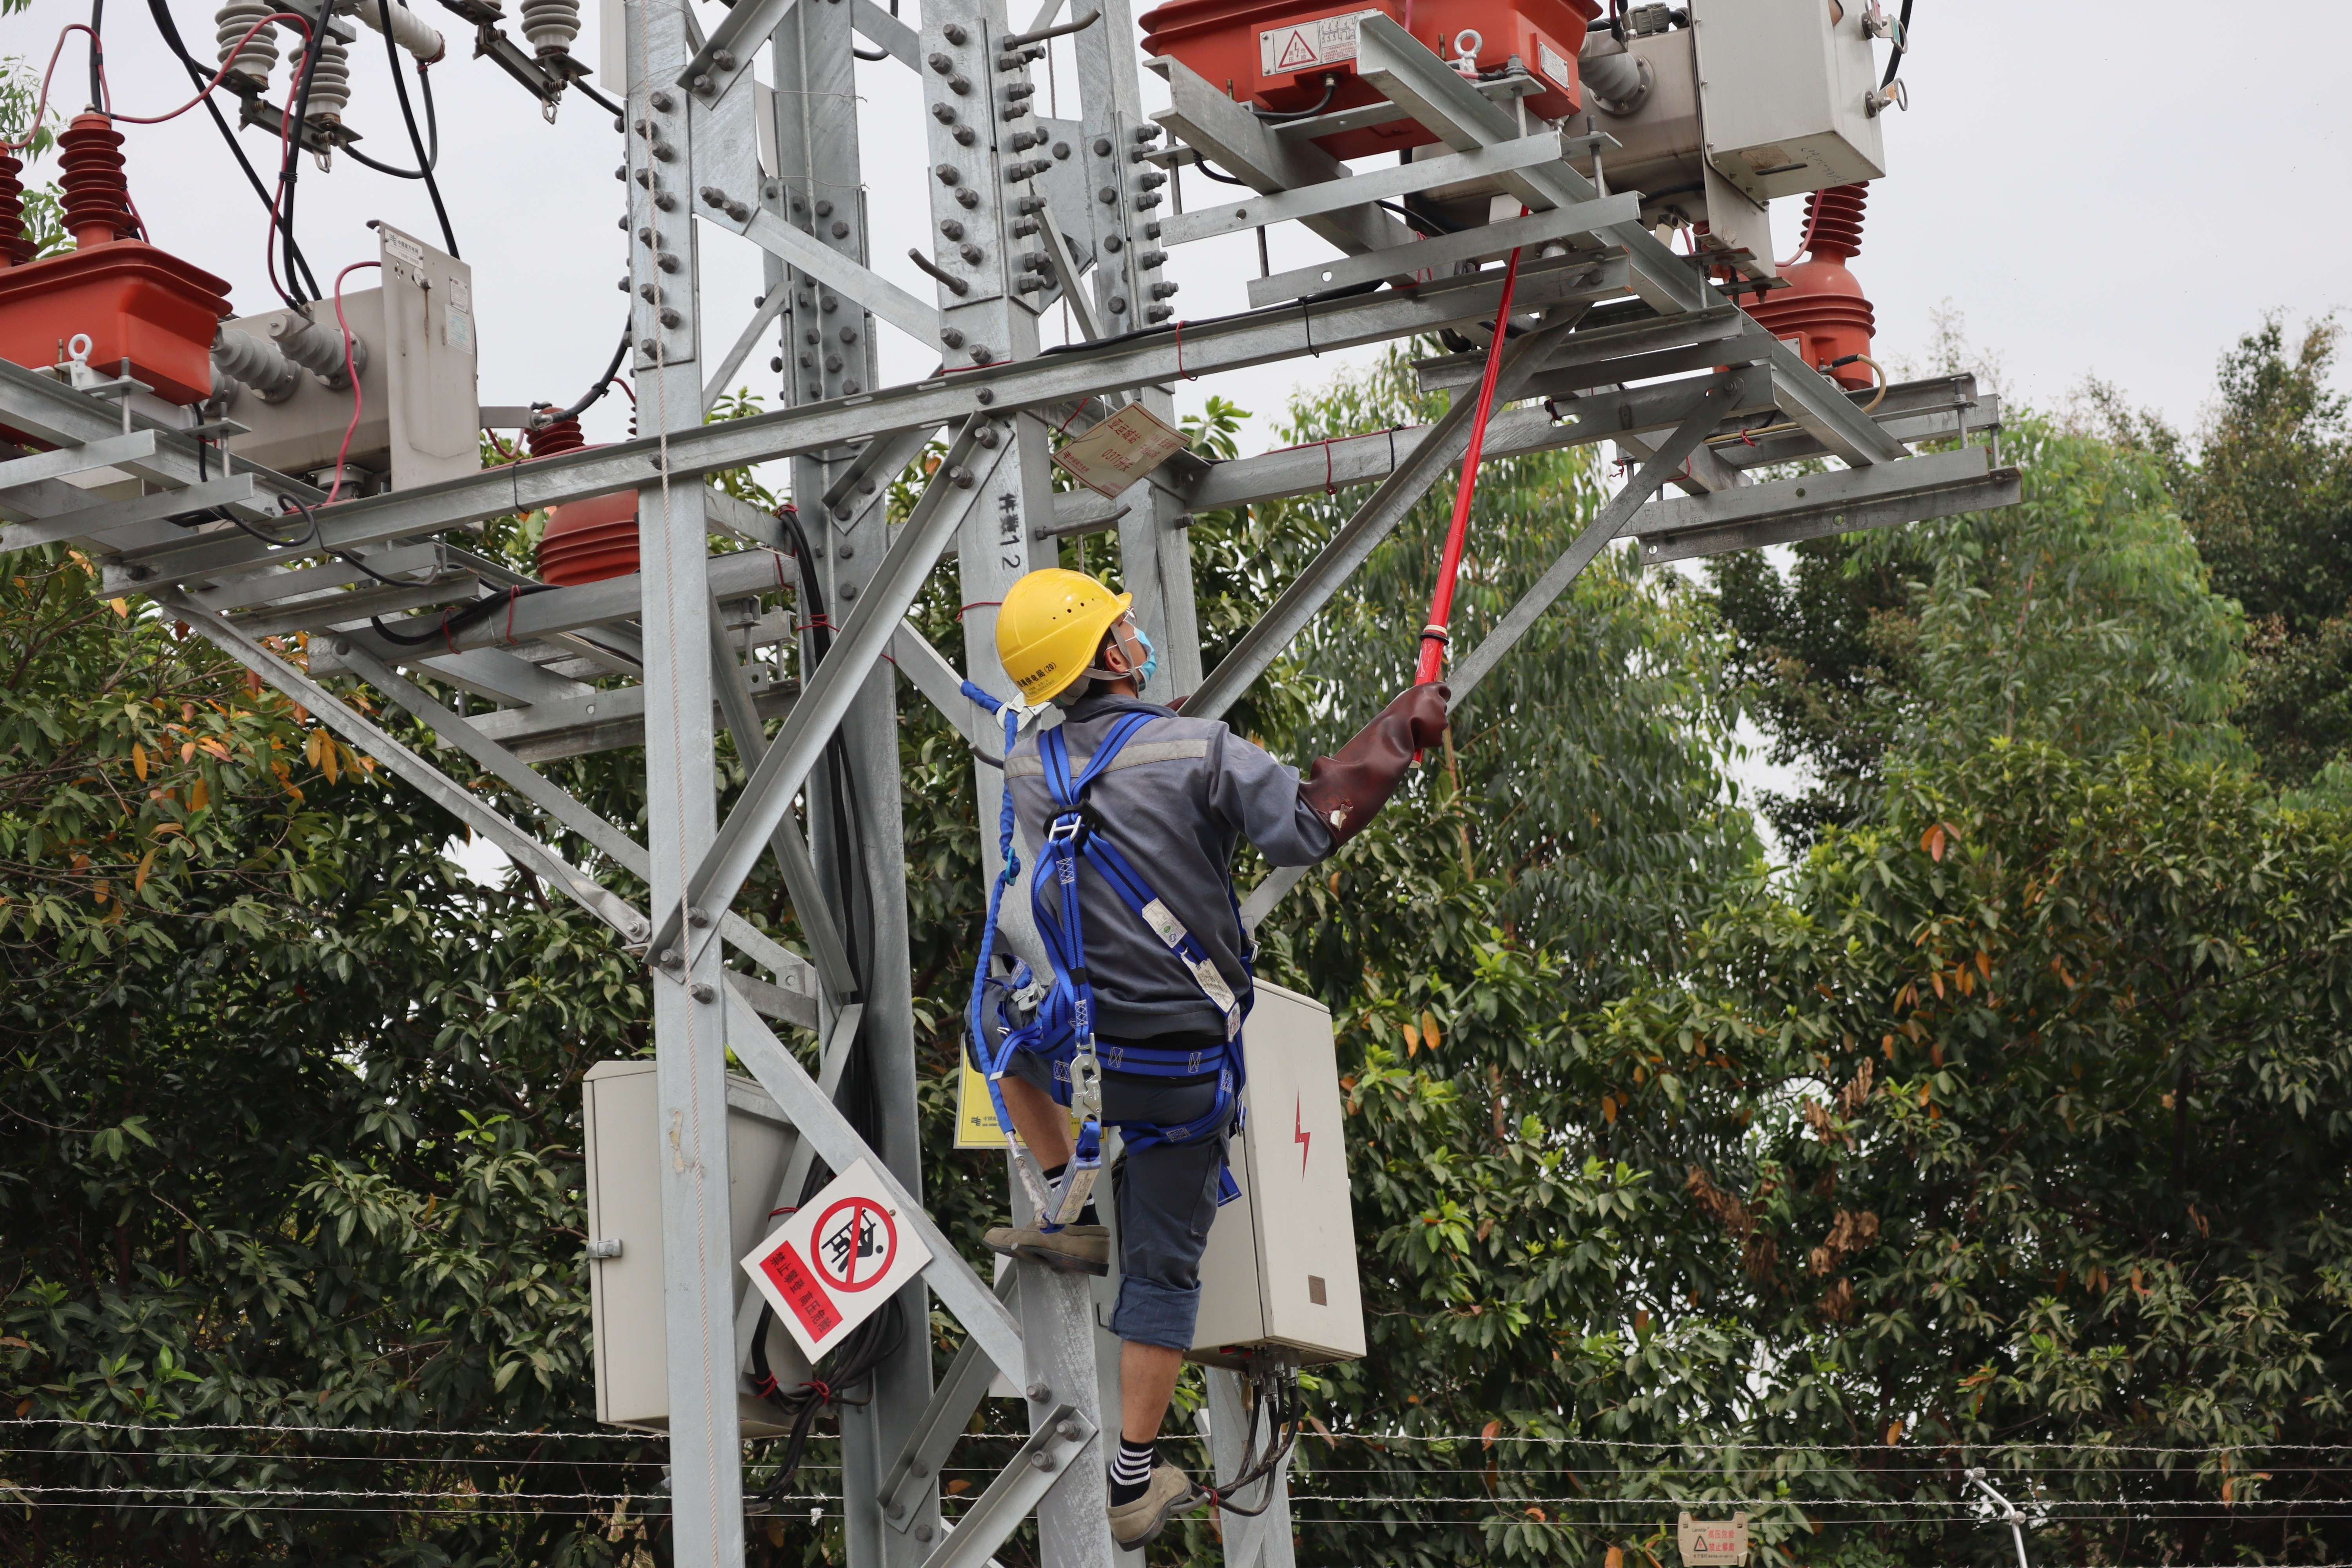downsuit: (982, 998, 1243, 1386)
upsuit: (994, 709, 1281, 1036)
wrongbottom: (975, 1036, 1099, 1218), (1102, 1290, 1202, 1470)
